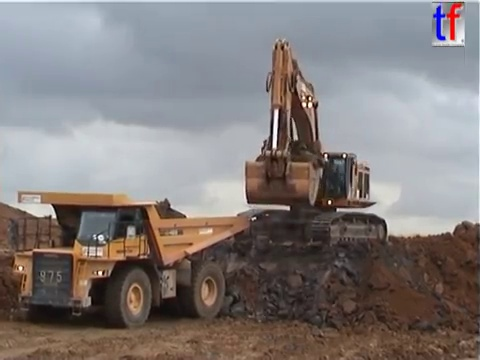excavator: (233, 35, 389, 254)
truck: (6, 189, 252, 329)
